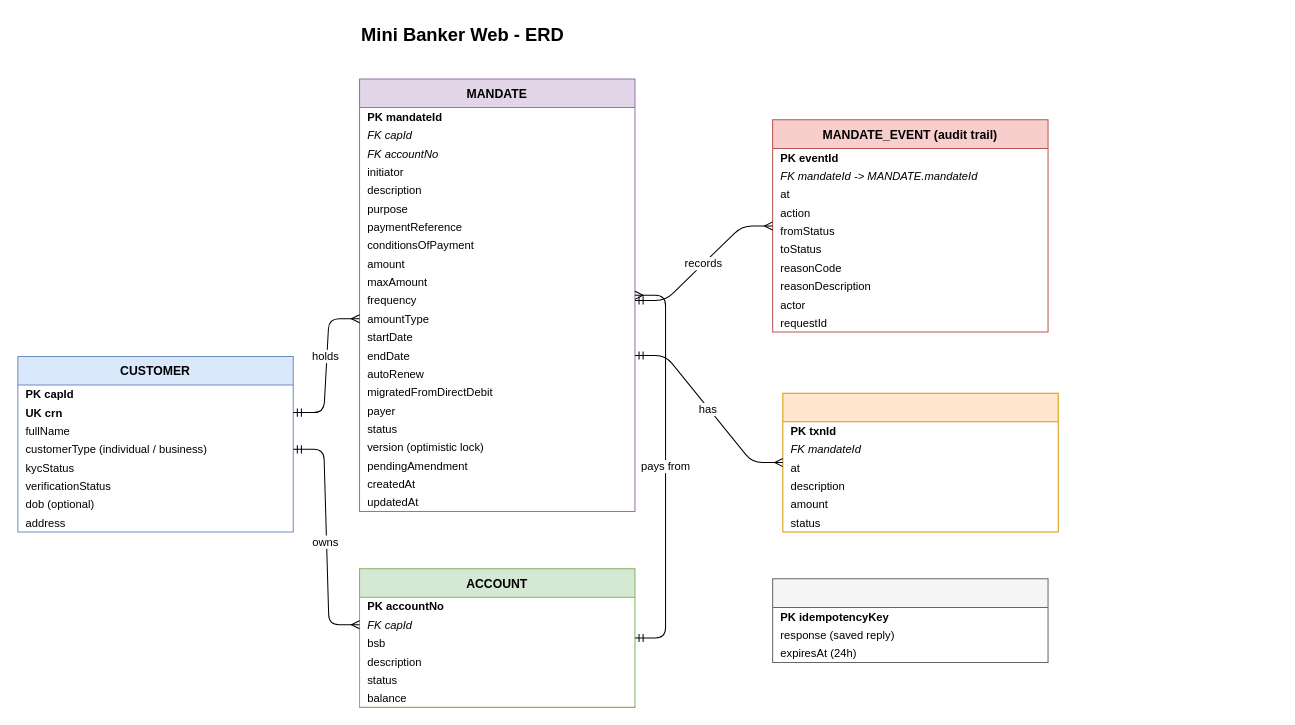
The diagram is 1295 pixels wide and 725 high, and some of its shapes have lost their labels. The shapes that lost their labels are listed below. From the top down, each one's box as (x1, y1, x2, y2) in pixels, then its label:
(782, 392, 1058, 532): MANDATE_TXN
(772, 578, 1048, 662): IDEMPOTENCY_KEY (no FK)
